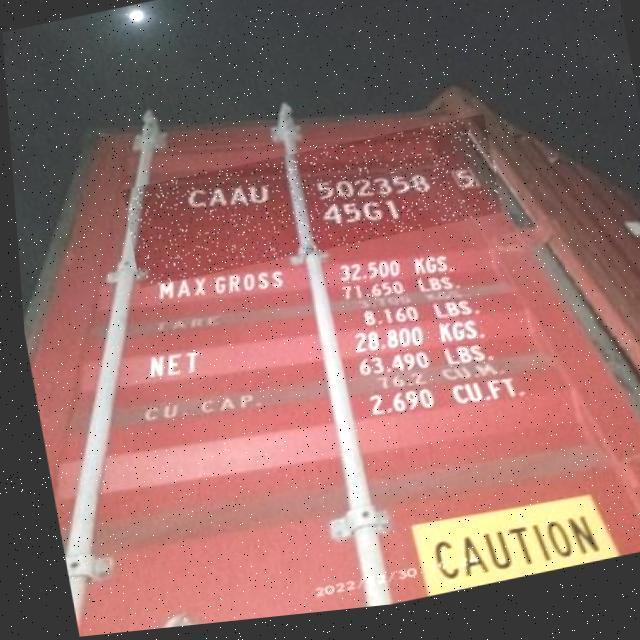container_number_h: (117, 122, 501, 291)
